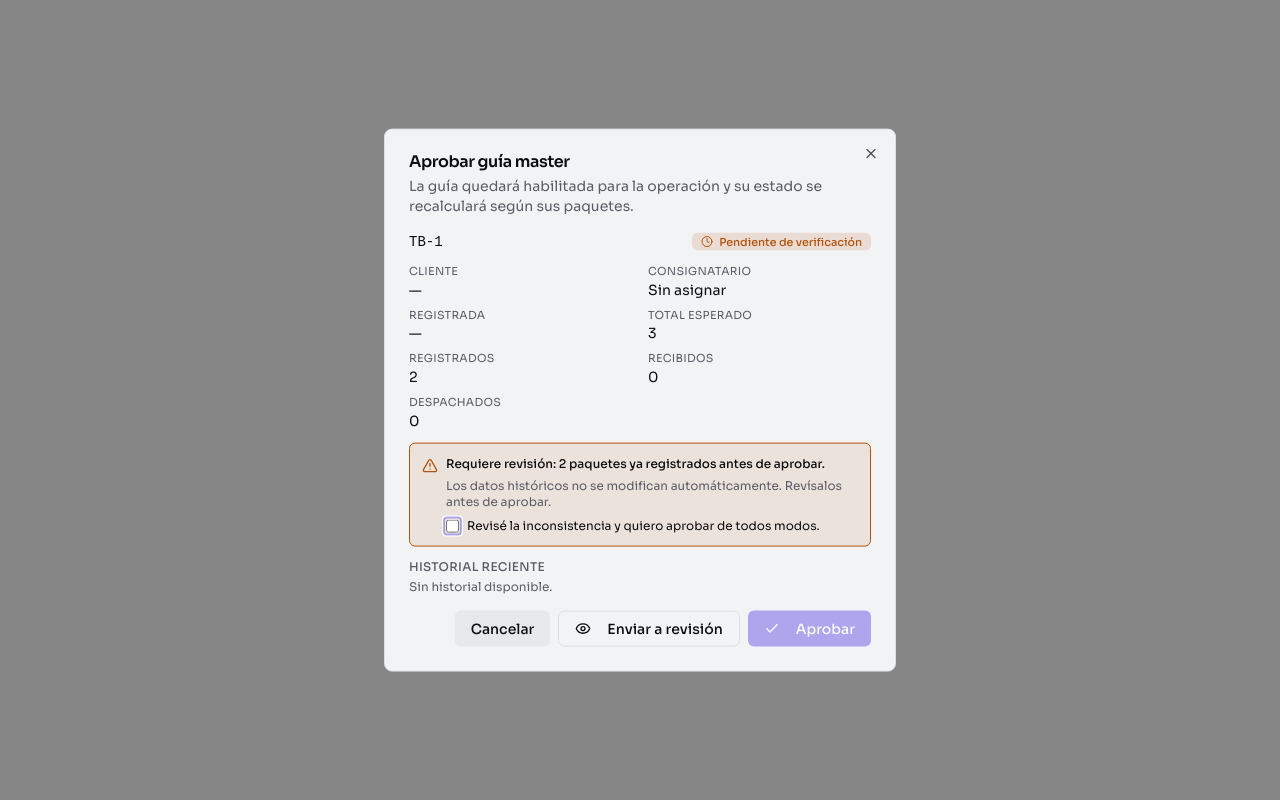
Test: AprobarGuiaDialog › con paquetes registrados exige confirmación explícita antes de aprobar
Expected: the text "Requiere revisión" is shown, [446,455,559,470]
Expected: the button "Aprobar" is disabled, [748,610,871,646]
Click the checkbox. click: (452, 526)
box: [446,519,459,532]
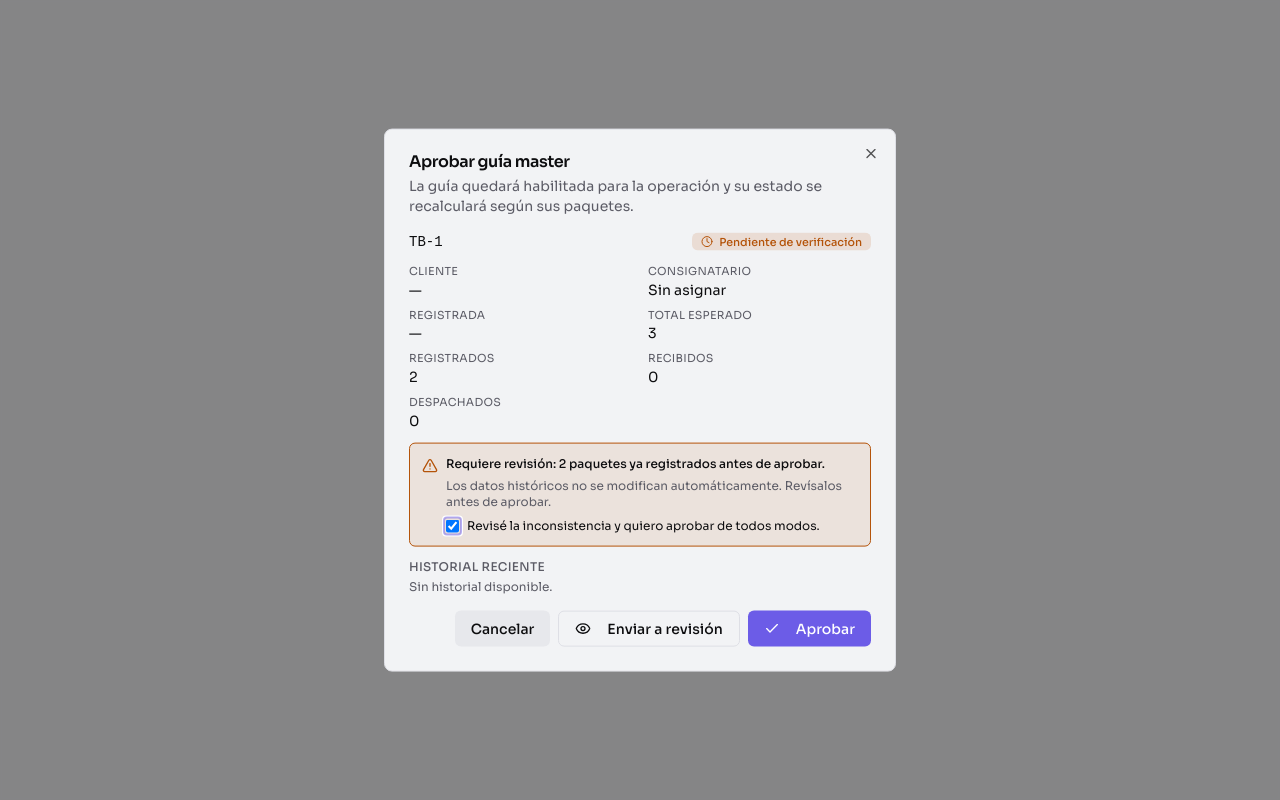
Result: the button "Aprobar" is enabled at [748,610,871,646]
